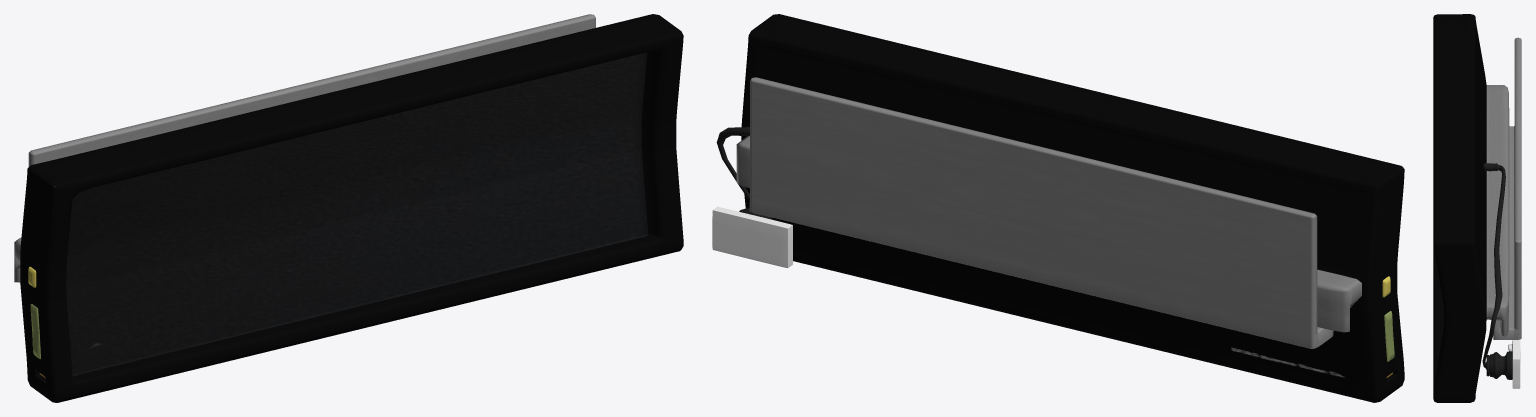
Rendered from Robbers_T3ANI210_TellerNumberScreen_Abdilla.fbx.
The picture shows the model from 3 angles, left to right: view 1: azimuth 30°, elevation 25°; view 2: azimuth 150°, elevation 25°; view 3: azimuth 270°, elevation 25°; orthographic projection. The views are drawn at different scales.
Visible parts, largest first — view 1: Screen, ScreenRack; view 2: Screen, ScreenRack, PowerPoint, Cord; view 3: Screen, ScreenRack, Cord, PowerPoint.
Boxes of the visible parts, x1=… form: Screen: x1=14, y1=14, x2=683, y2=402; ScreenRack: x1=28, y1=14, x2=595, y2=166; Screen: x1=736, y1=14, x2=1404, y2=402; ScreenRack: x1=749, y1=77, x2=1333, y2=348; PowerPoint: x1=712, y1=206, x2=792, y2=268; Cord: x1=716, y1=127, x2=772, y2=219; Screen: x1=1433, y1=14, x2=1509, y2=402; ScreenRack: x1=1493, y1=37, x2=1521, y2=339; Cord: x1=1482, y1=163, x2=1512, y2=379; PowerPoint: x1=1508, y1=339, x2=1520, y2=388.
Size of the model in its own units: 26.92 by 8.67 by 4.27.
Materials: 8 (8 with a texture image).
